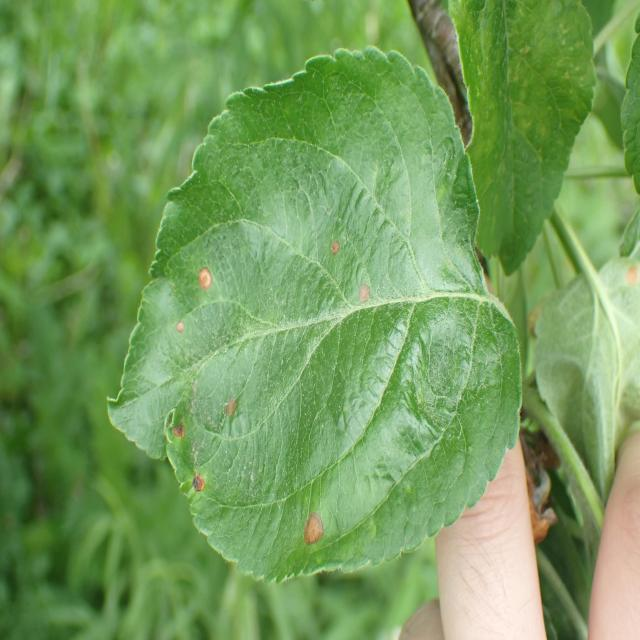frog-eye-leaf-spot: (106, 43, 523, 586)
